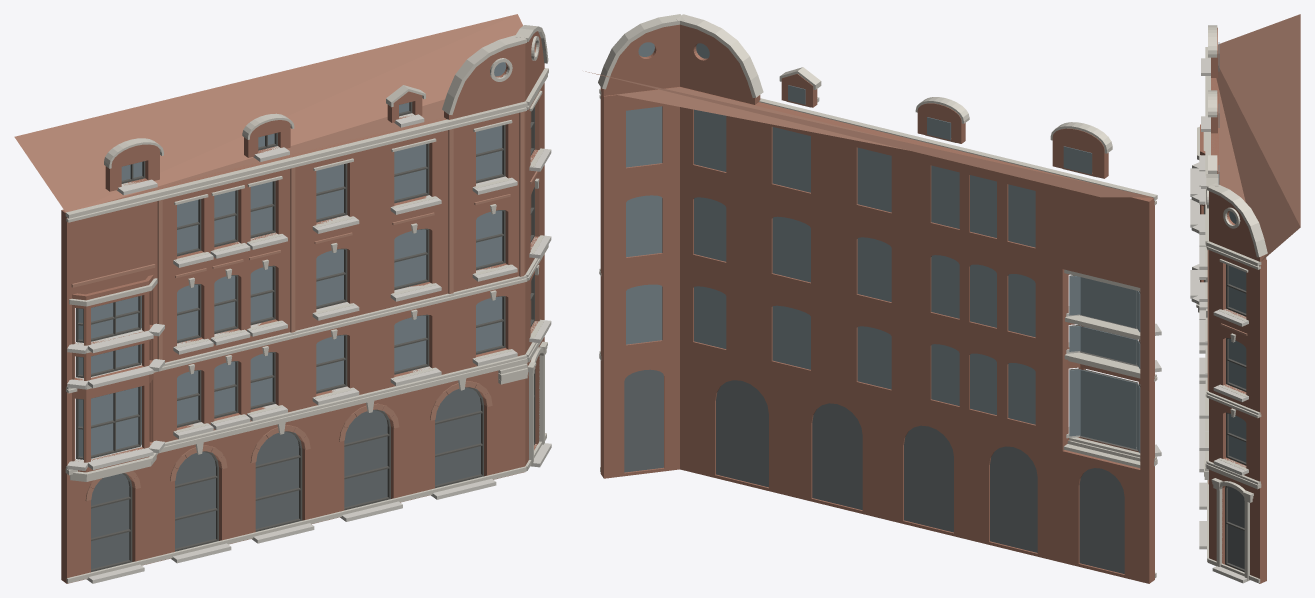
Rendered from huangpu-abraham-building-beijing-front-lod.glb.
3 views of the same model, side by side, from view 1: azimuth 30°, elevation 25°; view 2: azimuth 150°, elevation 25°; view 3: azimuth 270°, elevation 25° (orthographic). The views are drawn at different scales.
Visible parts, largest first — view 1: 益丰洋行大楼北京东路西端券窗与切角; view 2: 益丰洋行大楼北京东路西端券窗与切角; view 3: 益丰洋行大楼北京东路西端券窗与切角.
Boxes of the visible parts, x1,y1,x2,y2 form: 益丰洋行大楼北京东路西端券窗与切角: [14, 14, 551, 583]; 益丰洋行大楼北京东路西端券窗与切角: [585, 14, 1161, 583]; 益丰洋行大楼北京东路西端券窗与切角: [1190, 14, 1300, 583].
Size of the model in its own units: 21.04 by 17.03 by 4.51.
